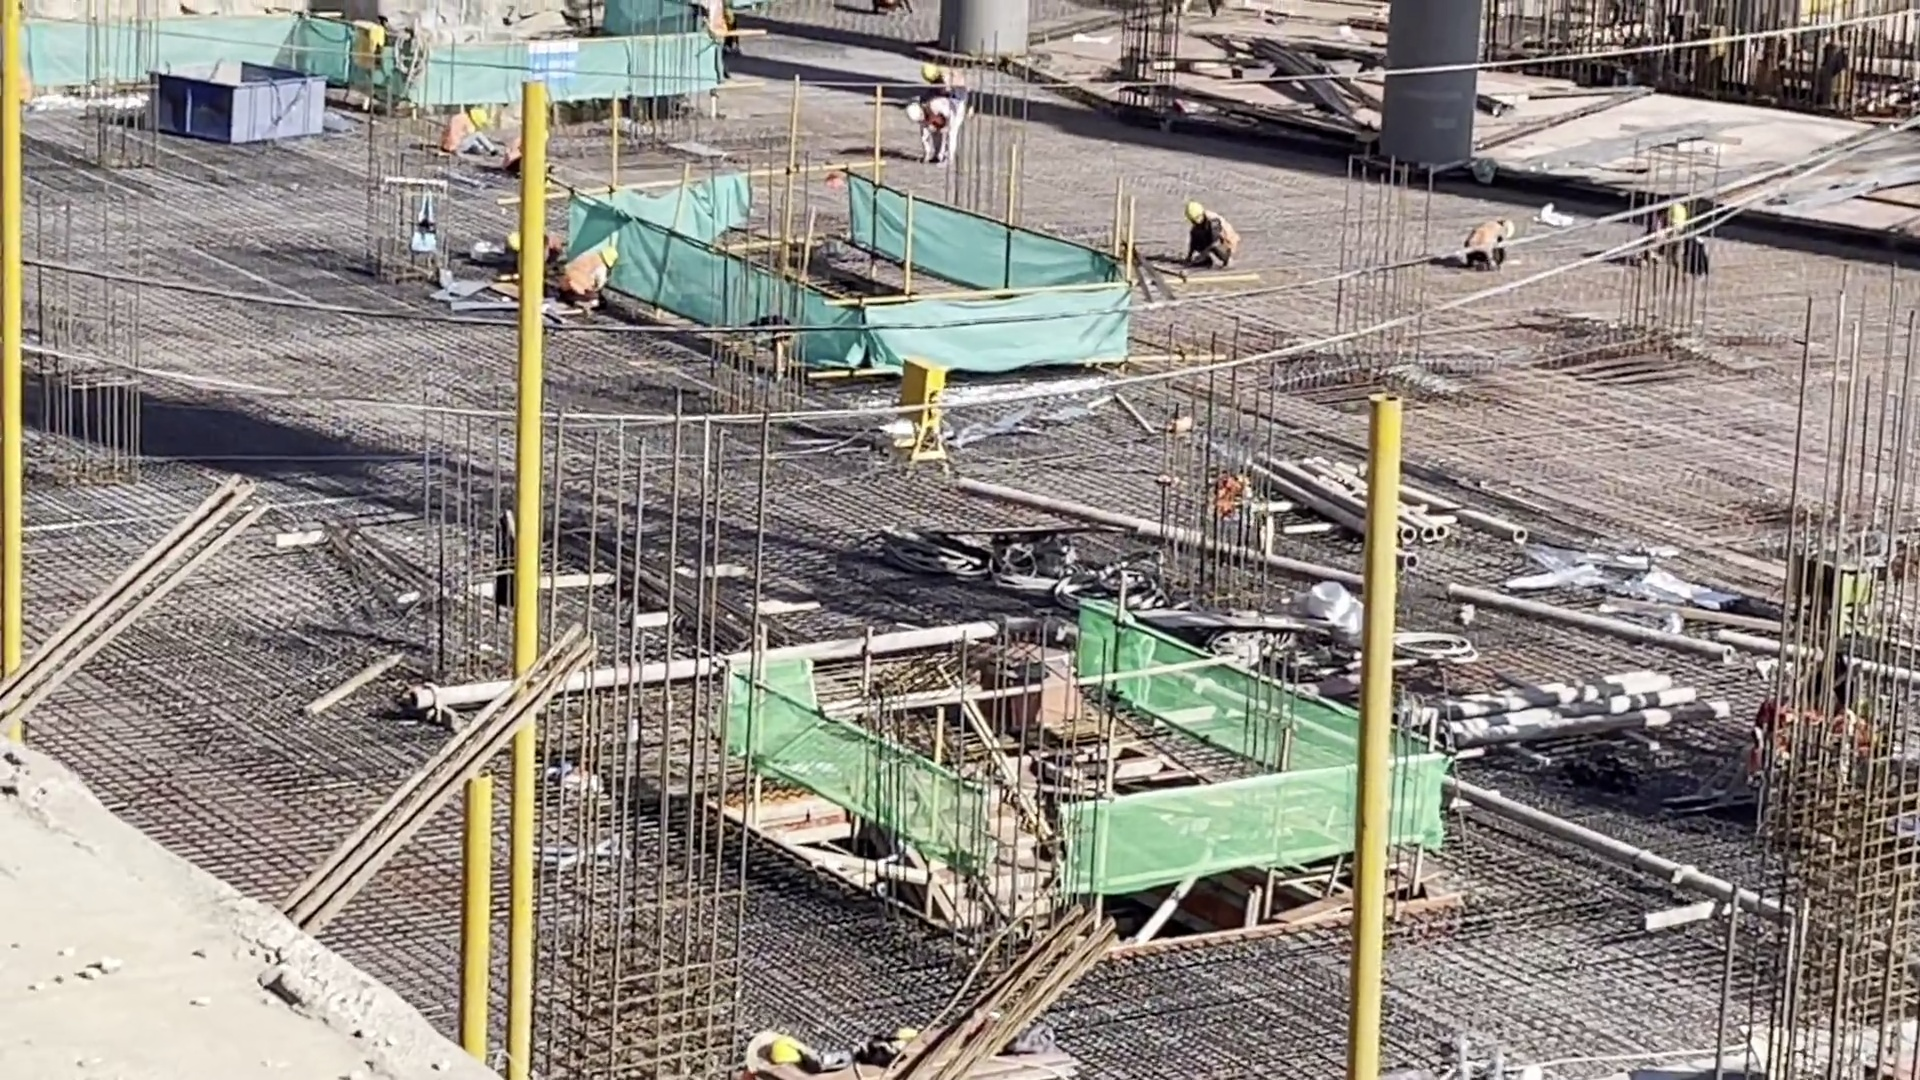ebox: (898, 357, 939, 464), (347, 26, 386, 72)
helmet: (597, 245, 621, 271), (1667, 203, 1688, 227), (905, 102, 924, 124), (468, 107, 488, 128), (1184, 202, 1204, 222), (923, 60, 938, 83)
hopper: (143, 60, 328, 141)
person: (1185, 200, 1239, 269), (559, 246, 619, 308), (906, 99, 961, 164), (439, 110, 494, 162), (1470, 214, 1516, 273), (924, 58, 965, 107)
slogan: (525, 42, 579, 84)
vest: (569, 253, 606, 300), (1465, 216, 1504, 251), (442, 114, 469, 150)
